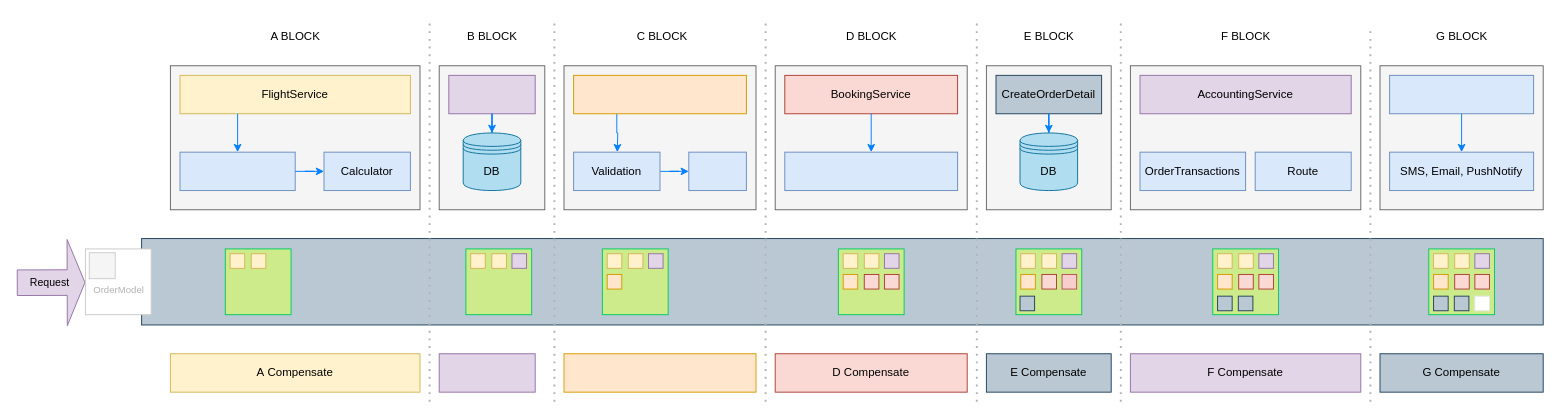
The diagram is 1560 pixels wide and 420 high, and some of its shapes have lost their labels. Each missing label, with the centre of its shape:
B Compensate: (x=486, y=372)
C Compensate: (x=659, y=372)
CreateOrder: (x=491, y=94)
Fare: (x=237, y=171)
NotificationService: (x=1461, y=94)
OrderDetail: (x=871, y=171)
PaymentService: (x=659, y=94)
Session: (x=717, y=171)
